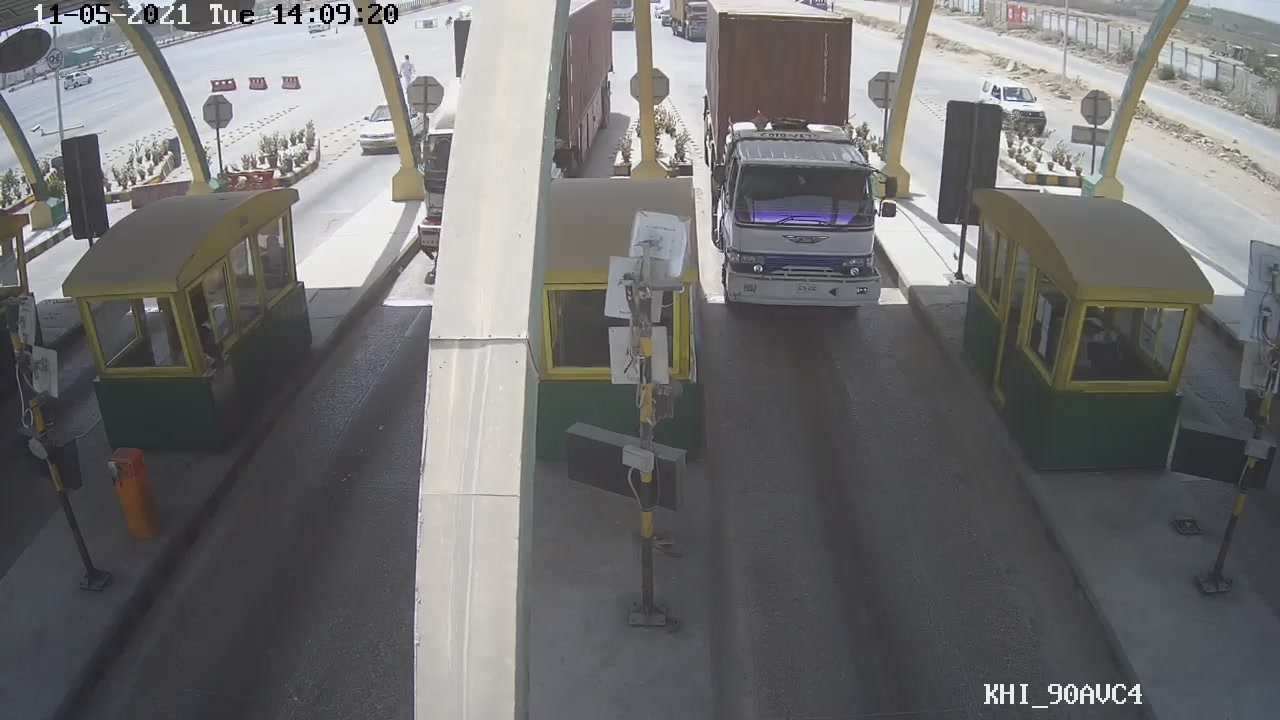F6: (699, 1, 898, 317)
